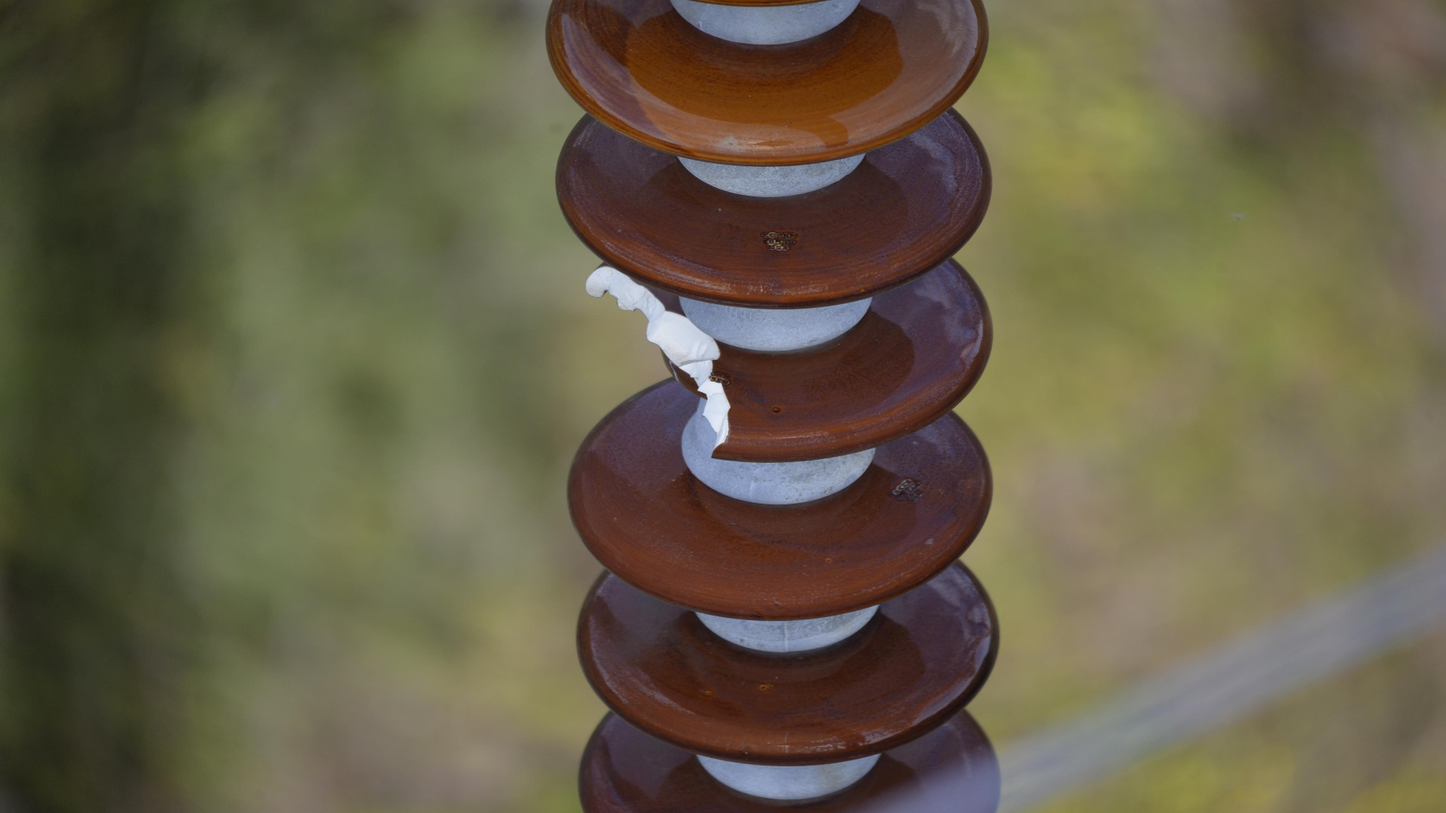insulator: (538, 1, 1014, 813)
